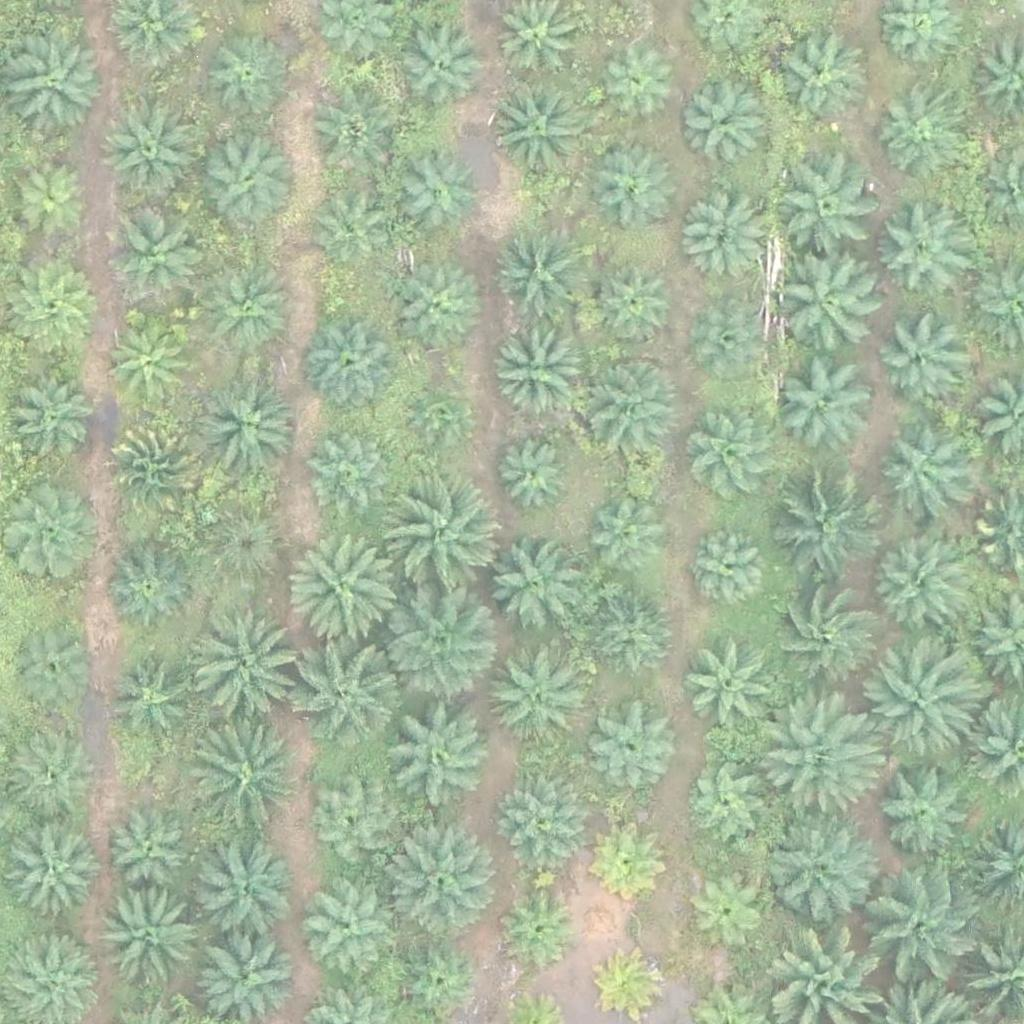Kelapa_Sawit: (187, 612, 300, 726), (770, 250, 883, 364), (870, 873, 983, 986), (382, 589, 495, 702), (383, 699, 496, 812), (384, 822, 497, 935), (293, 635, 406, 748), (289, 531, 402, 644), (183, 726, 296, 839), (869, 650, 981, 764), (770, 474, 882, 588), (389, 479, 501, 593), (762, 809, 874, 922), (762, 694, 874, 807), (766, 581, 878, 694), (870, 755, 970, 856), (782, 355, 882, 456), (681, 639, 781, 740), (576, 355, 676, 456), (485, 643, 585, 744), (303, 315, 403, 416), (195, 372, 295, 473), (192, 842, 292, 943), (99, 890, 199, 991), (5, 253, 105, 354), (8, 29, 108, 130), (104, 201, 204, 302), (197, 124, 297, 225), (195, 257, 295, 358), (489, 83, 589, 184), (492, 223, 592, 324), (767, 33, 867, 134), (782, 158, 882, 259), (865, 537, 965, 637), (490, 322, 590, 422), (484, 538, 584, 638), (108, 419, 208, 519), (99, 103, 199, 203), (873, 196, 973, 296), (683, 525, 771, 614), (875, 315, 963, 403), (876, 431, 964, 519), (691, 415, 779, 503), (585, 488, 673, 576), (197, 505, 285, 593), (9, 621, 97, 709), (102, 651, 190, 739), (680, 865, 768, 953), (304, 893, 392, 981), (306, 436, 394, 524), (102, 321, 190, 409), (107, 544, 195, 632), (107, 801, 195, 889), (203, 35, 291, 123), (310, 93, 398, 181), (399, 23, 487, 111), (391, 152, 479, 240), (588, 593, 675, 681), (683, 763, 770, 851), (498, 773, 585, 861), (585, 704, 672, 792), (310, 782, 397, 870), (2, 372, 89, 460), (8, 730, 95, 818), (11, 831, 98, 919), (10, 152, 97, 240), (308, 188, 395, 276), (398, 268, 485, 356), (591, 260, 678, 348), (591, 142, 678, 230), (598, 38, 685, 126), (684, 87, 771, 175), (681, 195, 768, 283), (873, 93, 960, 181), (495, 438, 570, 514), (695, 305, 770, 381), (594, 947, 669, 1023), (504, 889, 579, 964), (594, 825, 669, 900), (406, 382, 468, 445)
